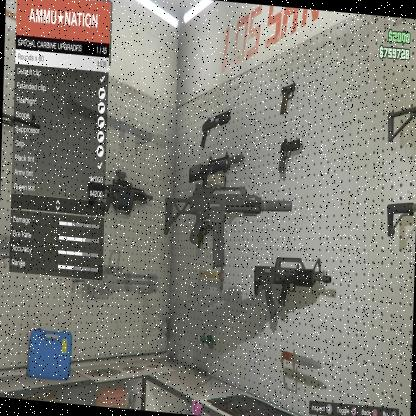rifle: (154, 172, 302, 266)
